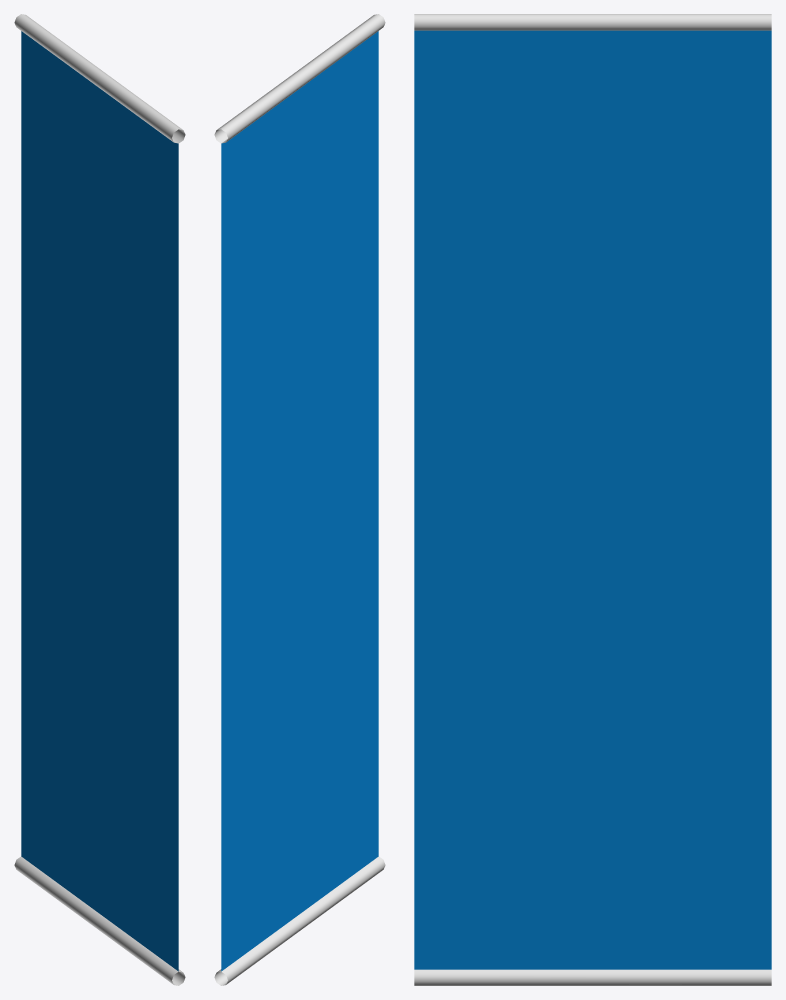
Rendered from Glass_Mid_Edge.fbx.
3 renders of one model, left to right at view 1: azimuth 30°, elevation 25°; view 2: azimuth 150°, elevation 25°; view 3: azimuth 270°, elevation 25°, orthographic. The views are drawn at different scales.
Parts seen in each view (by area): view 1: Wall_Glass_Bottom.001; view 2: Wall_Glass_Bottom.001; view 3: Wall_Glass_Bottom.001.
Part boxes in pixels (x1,y1,x2,y2): Wall_Glass_Bottom.001: (14,14,185,985); Wall_Glass_Bottom.001: (214,14,385,985); Wall_Glass_Bottom.001: (414,14,771,985).
Bounding box in the file's own units: 5 × 300 × 99.99.
